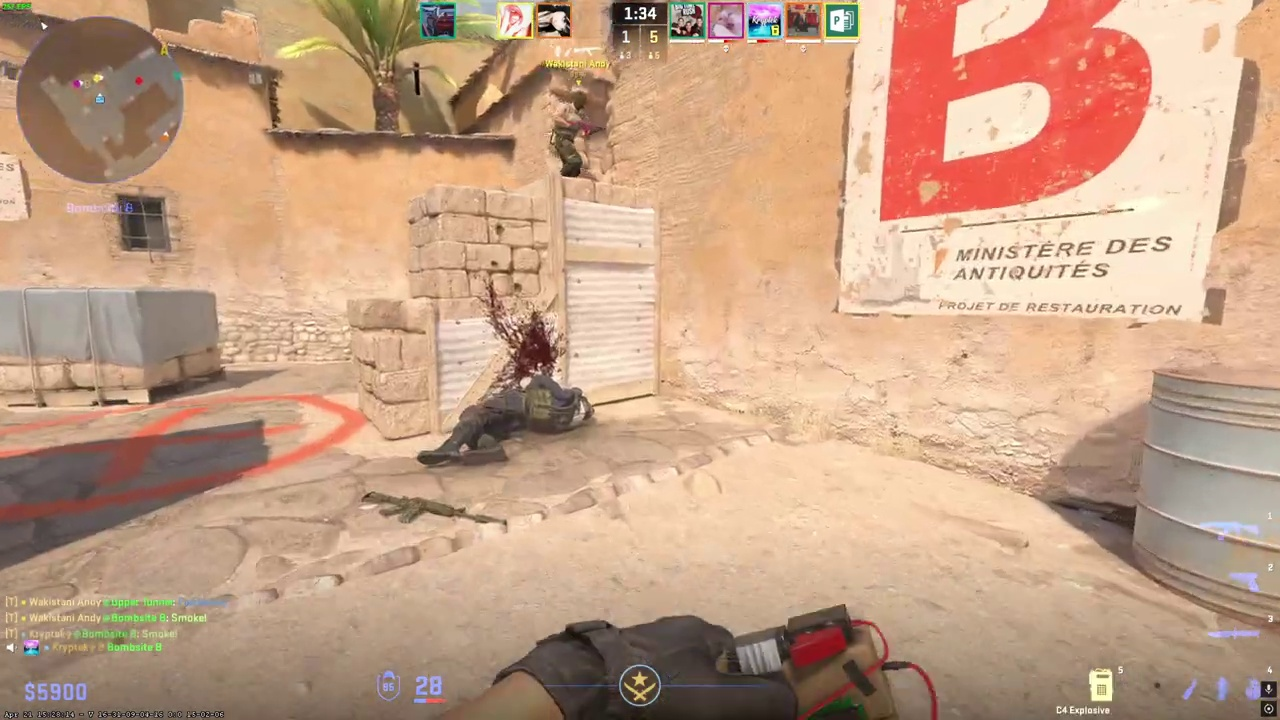Terrorist: (550, 90, 592, 178)
